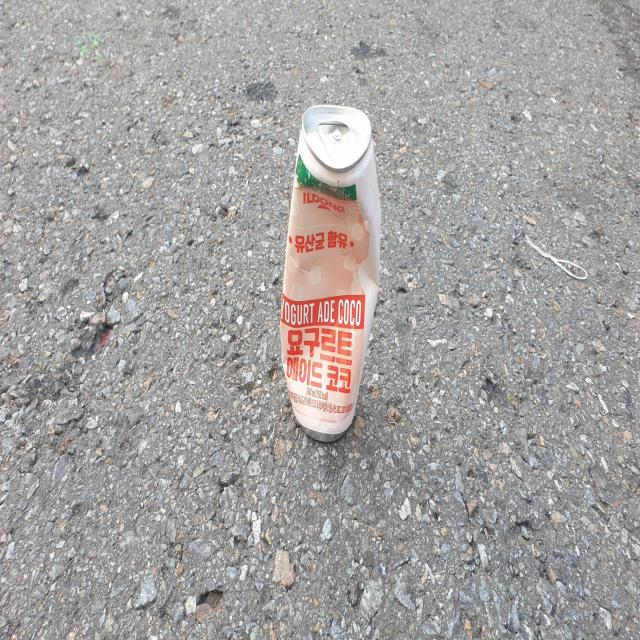can: (280, 104, 381, 441)
